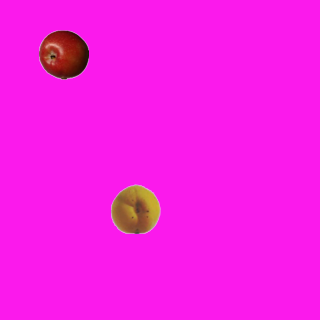Apple Braeburn: (38, 29, 88, 79)
Peach 2: (110, 183, 160, 233)
